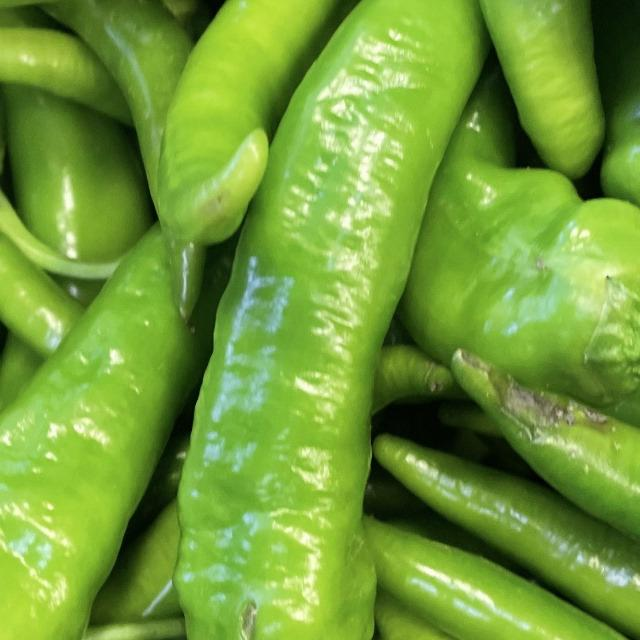chili_pepper: (167, 0, 600, 640)
